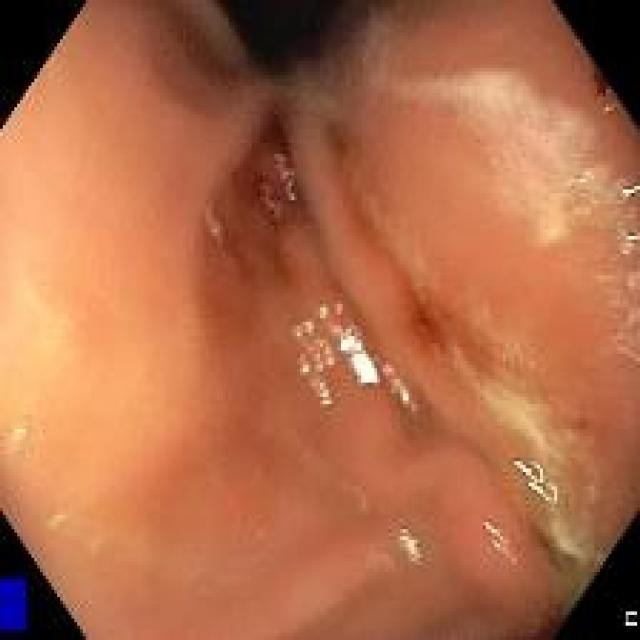blur: (196, 237, 528, 597)
color misalignment: (2, 578, 27, 635), (626, 613, 639, 629)
specularity: (338, 337, 382, 389), (517, 464, 545, 494), (402, 533, 420, 561), (320, 382, 331, 406), (485, 526, 499, 535), (624, 189, 639, 197), (401, 393, 410, 406), (629, 236, 638, 243), (302, 368, 310, 375), (18, 430, 26, 434)
